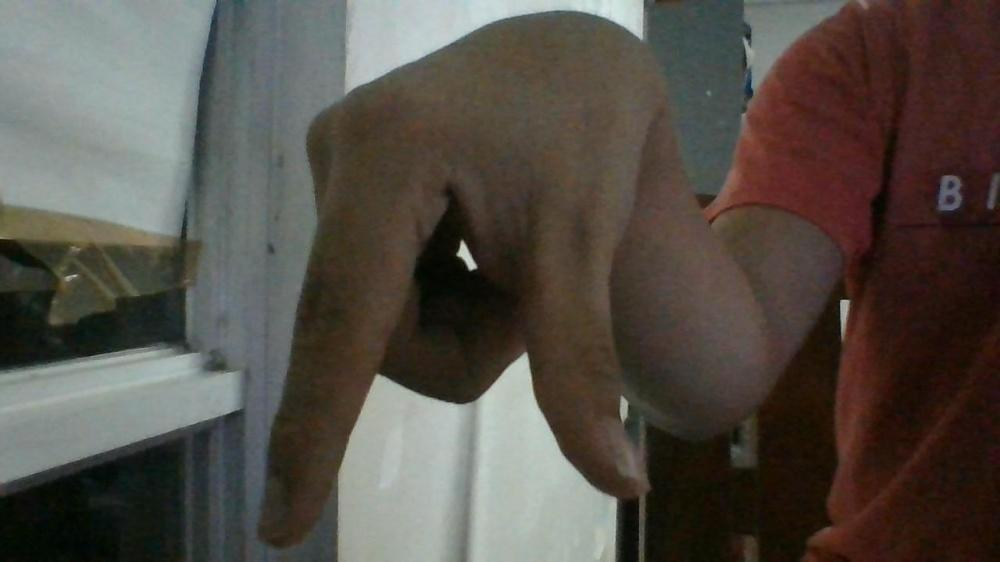q: (253, 7, 672, 552)
